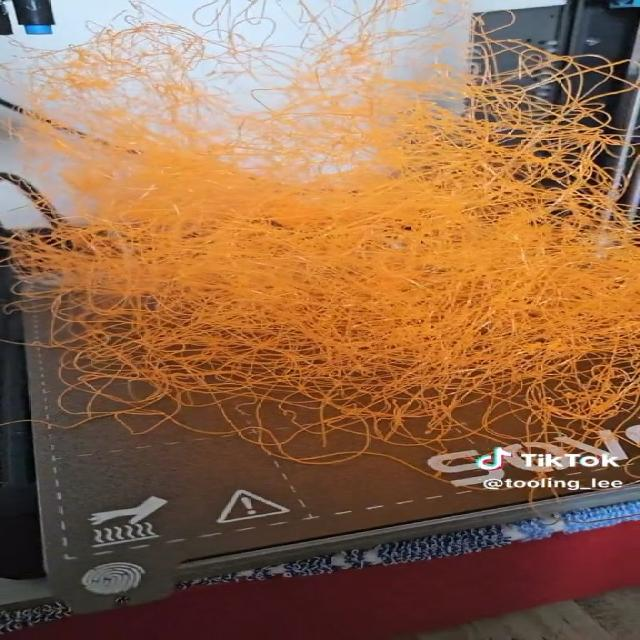spaghetti: (0, 3, 638, 485)
